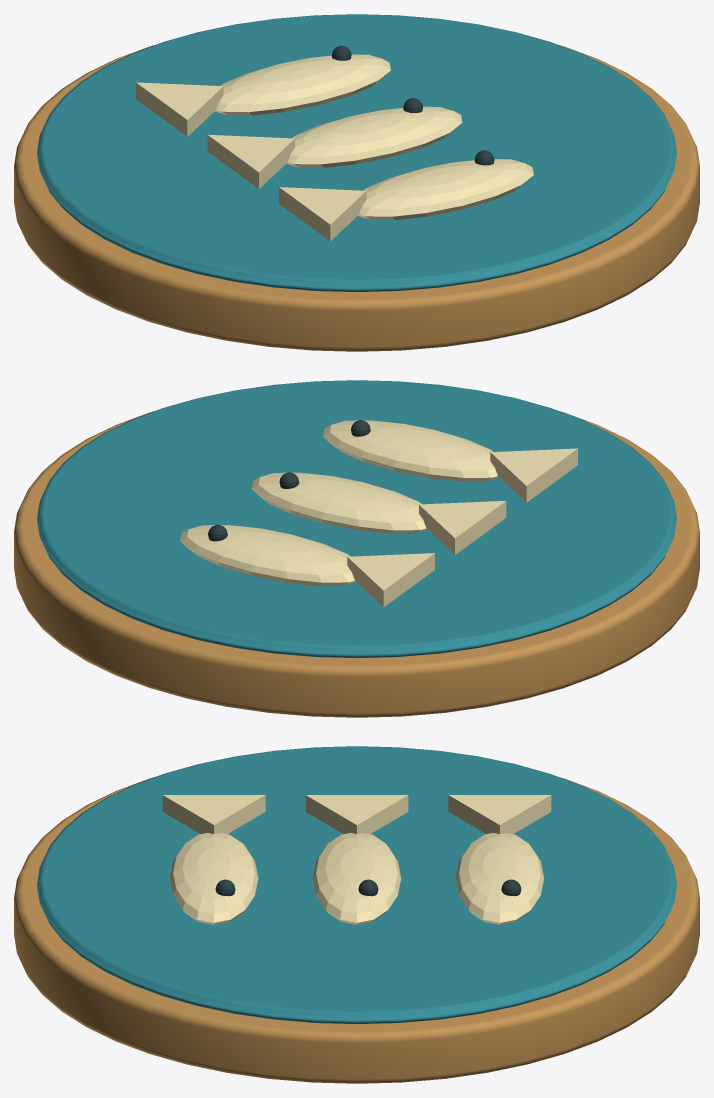
The model's file is fish-3.fbx.
The picture shows the model from 3 angles, top to bottom: view 1: azimuth 30°, elevation 25°; view 2: azimuth 150°, elevation 25°; view 3: azimuth 270°, elevation 25°; orthographic projection.
Parts seen in each view (by area): view 1: fish-3; view 2: fish-3; view 3: fish-3.
Boxes of the visible parts, x1,y1,x2,y2 form: fish-3: (14,14,699,351); fish-3: (14,380,699,717); fish-3: (14,746,699,1083).
Bounding box in the file's own units: 2.4 × 0.355 × 2.4.
